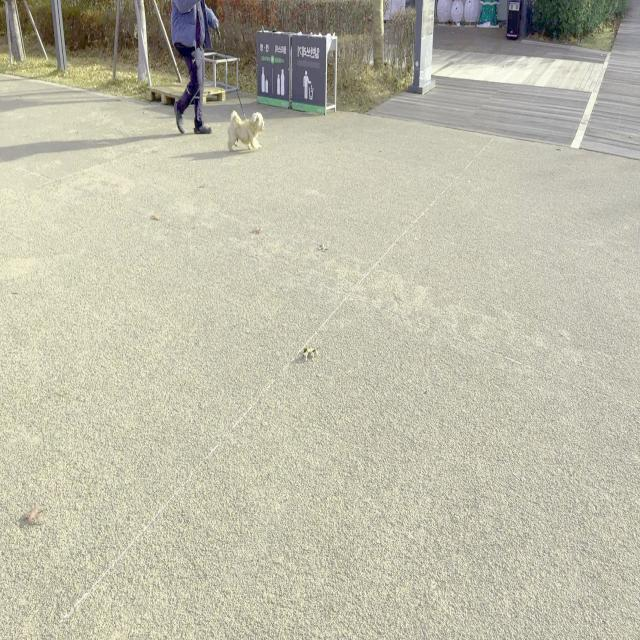Leashed_Dog: (194, 20, 264, 151)
